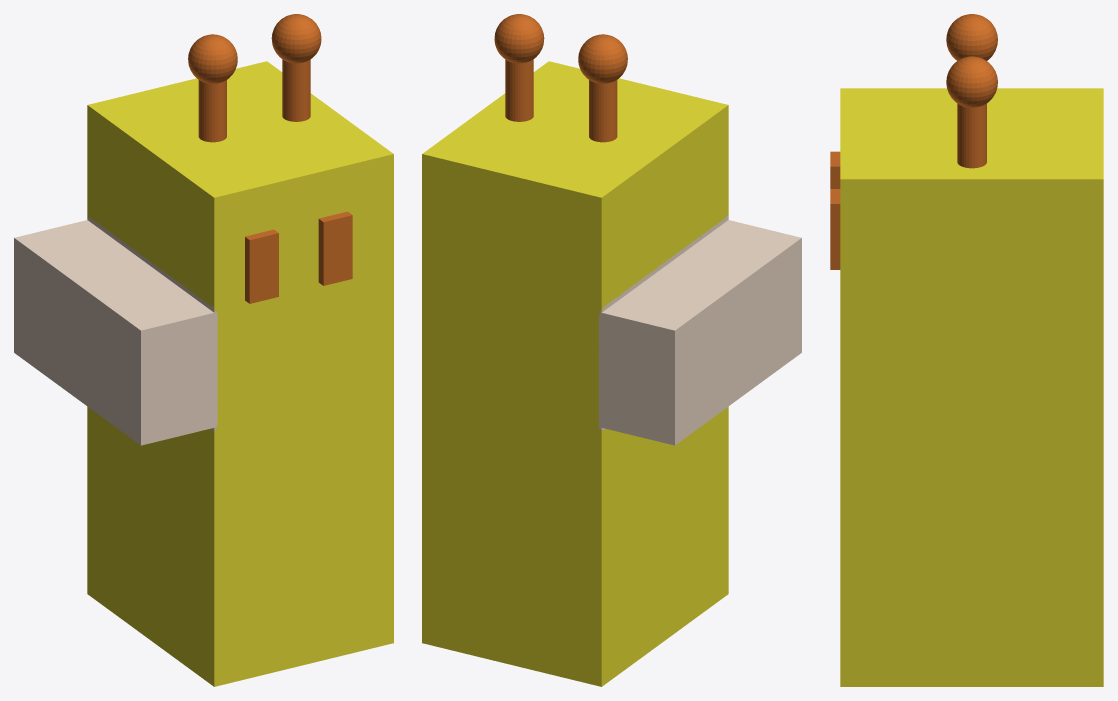
Rendered from kirin.fbx.
3 renders of one model, left to right at view 1: azimuth 30°, elevation 25°; view 2: azimuth 150°, elevation 25°; view 3: azimuth 270°, elevation 25°, orthographic. The views are drawn at different scales.
Visible parts, largest first — view 1: Cube; view 2: Cube; view 3: Cube.
Boxes of the visible parts, x1,y1,x2,y2 form: Cube: [14, 14, 393, 686]; Cube: [422, 14, 801, 686]; Cube: [830, 14, 1103, 686].
Bounding box in the file's own units: 230 × 512 × 208.
